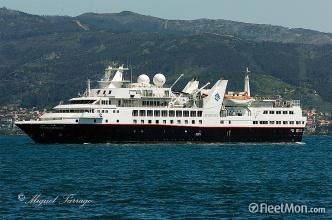youlun: (15, 56, 310, 147)
